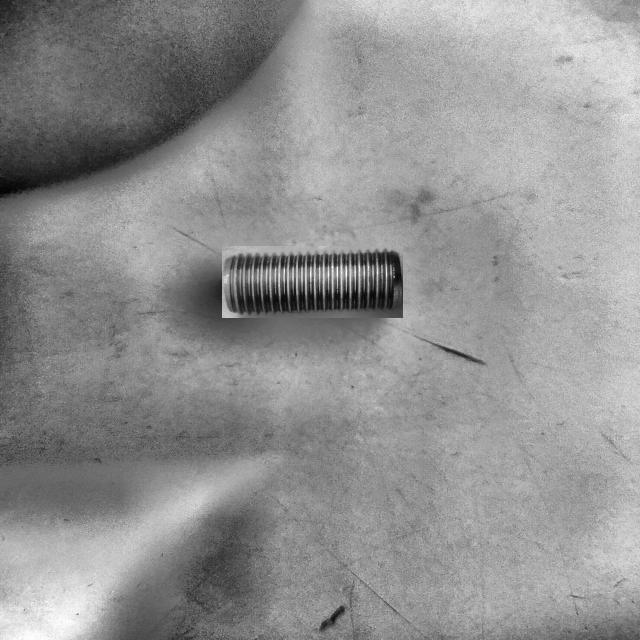Normal: (222, 246, 403, 318)
